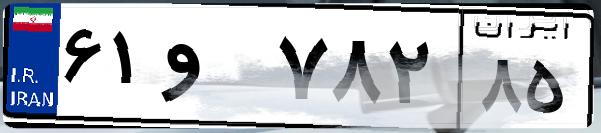1: (110, 28, 158, 98)
2: (385, 28, 445, 110)
5: (525, 38, 570, 115)
6: (57, 26, 110, 100)
7: (270, 28, 330, 110)
8: (330, 28, 385, 110), (475, 38, 525, 113)
و: (158, 20, 270, 120)
